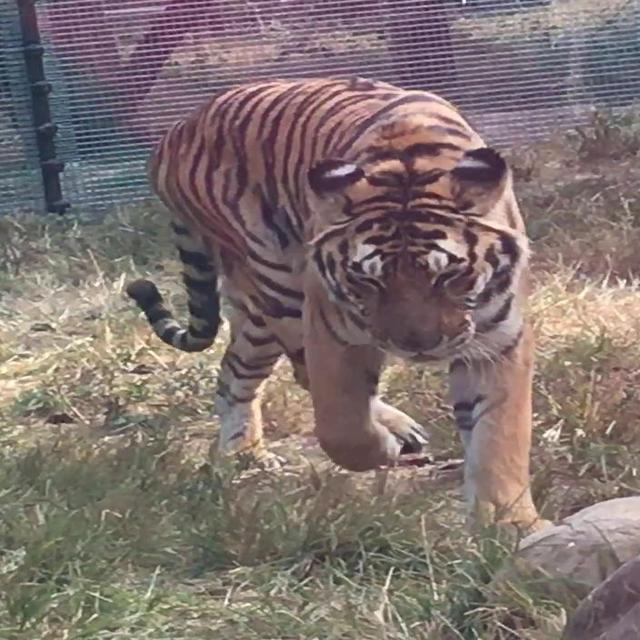tiger: (124, 72, 553, 540)
